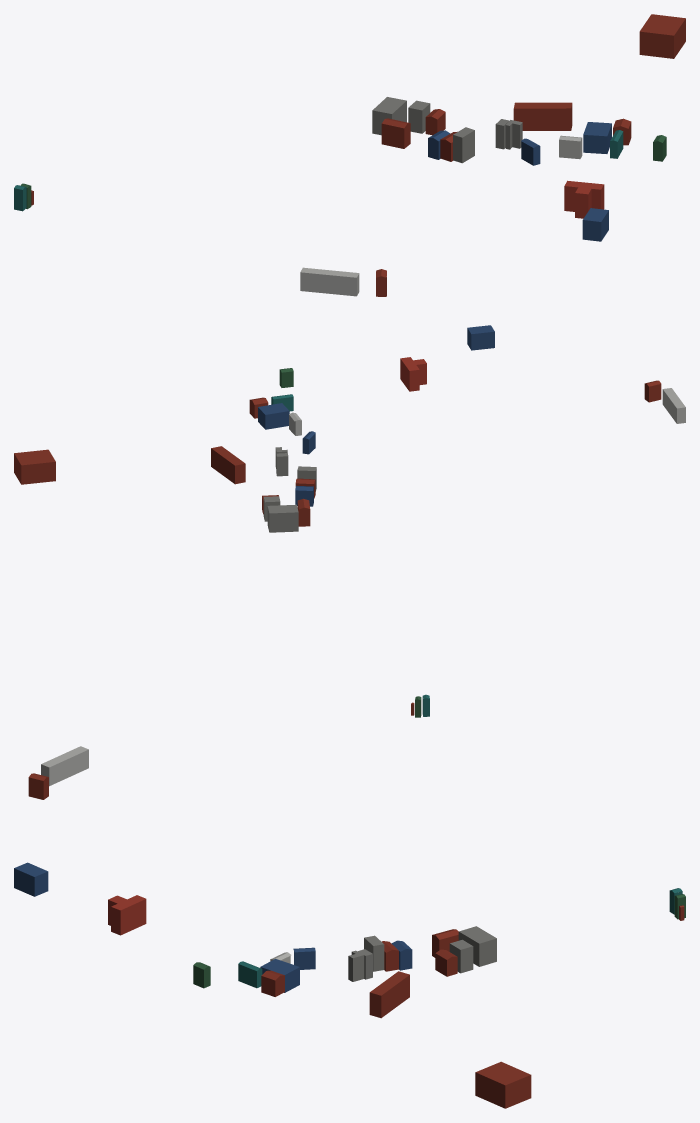
Rendered from near-16-54726-29746.d9a02d9f.glb.
3 views of the same model, one above another, from view 1: azimuth 30°, elevation 25°; view 2: azimuth 150°, elevation 25°; view 3: azimuth 270°, elevation 25° (orthographic). The views are drawn at different scales.
Size of the model in its own units: 595 by 160 by 577.
